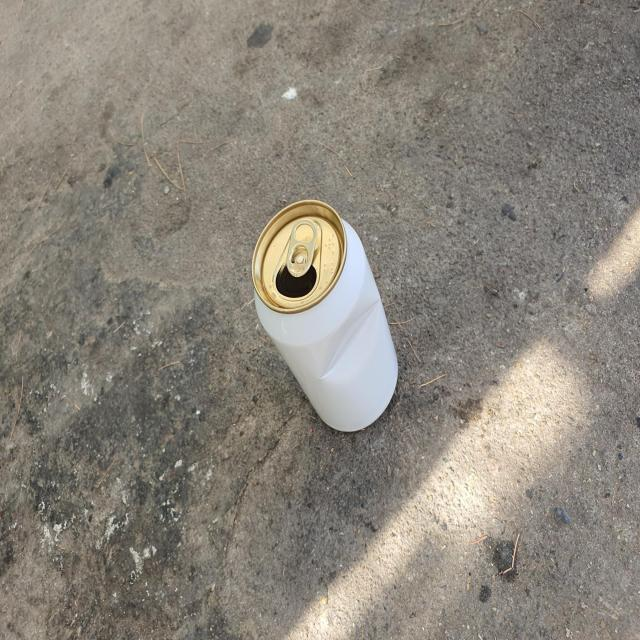can: (252, 199, 398, 432)
